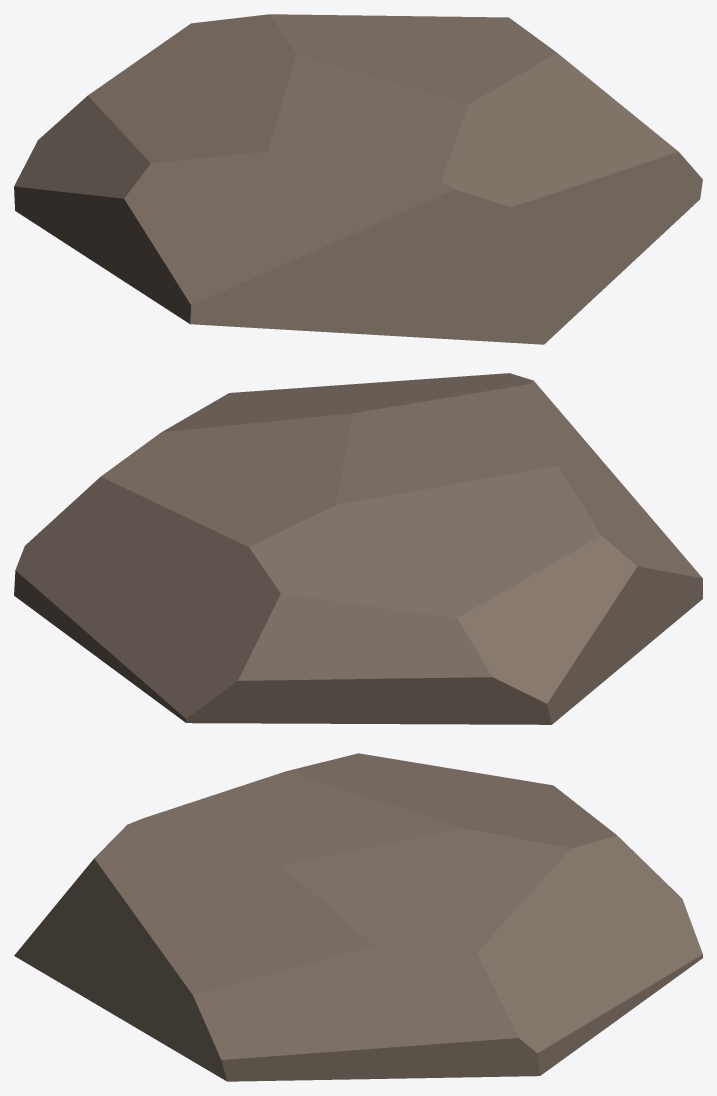
File: enchantedforest_stone_1.fbx
3 renders of one model, top to bottom at view 1: azimuth 30°, elevation 25°; view 2: azimuth 150°, elevation 25°; view 3: azimuth 270°, elevation 25°, orthographic. The views are drawn at different scales.
Visible parts, largest first — view 1: Cylinder.004; view 2: Cylinder.004; view 3: Cylinder.004.
Boxes of the visible parts, x1,y1,x2,y2 form: Cylinder.004: [14, 14, 702, 344]; Cylinder.004: [14, 373, 702, 724]; Cylinder.004: [14, 753, 702, 1081].
Size of the model in its own units: 1.78 by 0.4 by 2.08.
